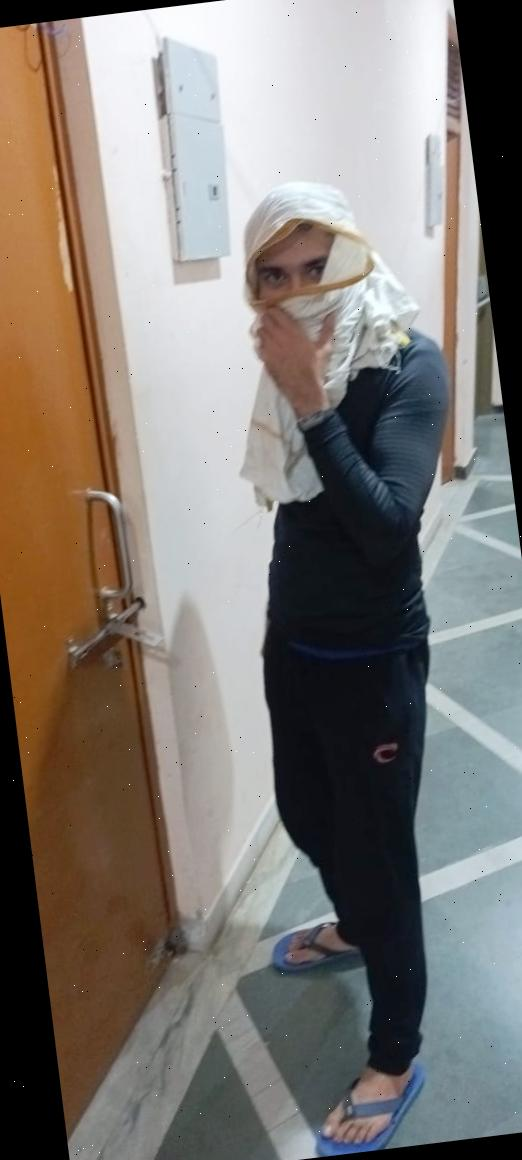suspicion: (58, 121, 522, 1160)
